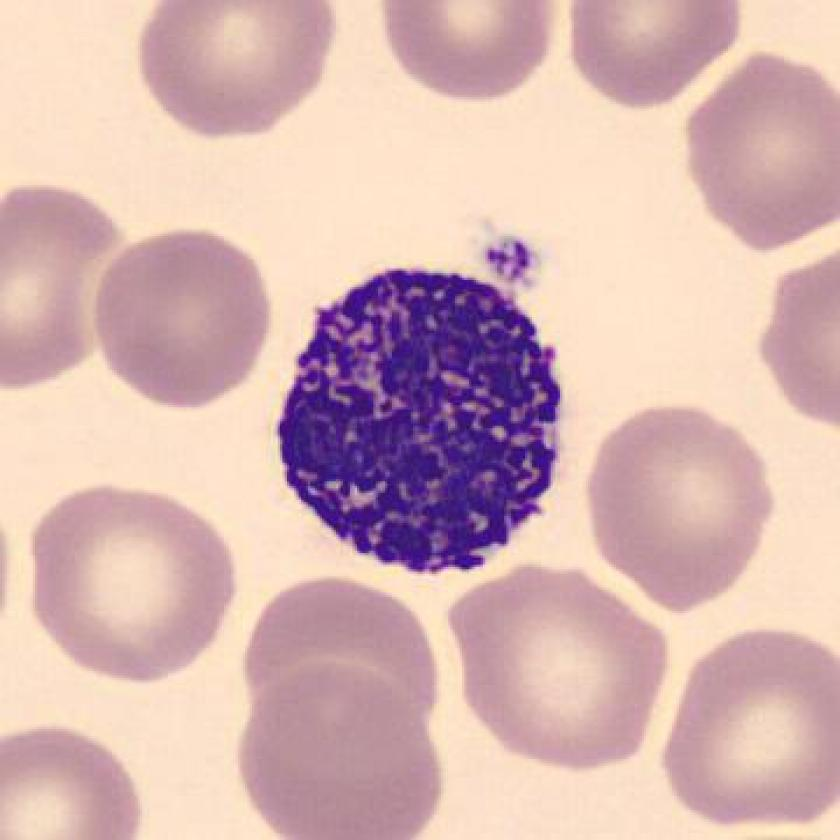basophil: (279, 251, 582, 584)
